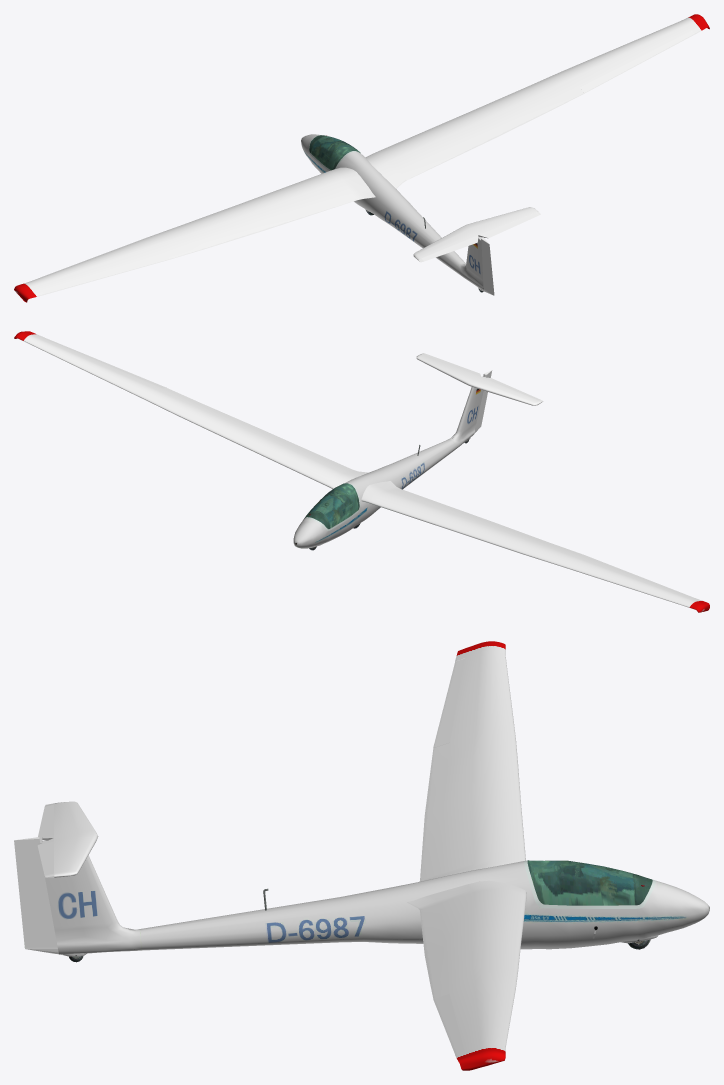
File: ASK_23_stat.gltf
3 views of the same model, one above another, from view 1: azimuth 30°, elevation 25°; view 2: azimuth 150°, elevation 25°; view 3: azimuth 270°, elevation 25° (orthographic). The views are drawn at different scales.
Parts seen in each view (by area): view 1: node9, node8, node16, node17; view 2: node9, node8, node16, node17; view 3: node9, node8, node16, node17, node15.
Boxes of the visible parts, box(x1,y1,x2,y2) form: node9: box(14, 14, 709, 302); node8: box(301, 134, 483, 290); node16: box(413, 207, 540, 295); node17: box(309, 135, 360, 170); node9: box(14, 331, 709, 612); node8: box(293, 374, 486, 548); node16: box(311, 353, 543, 547); node17: box(304, 483, 359, 528); node9: box(407, 641, 526, 1070); node8: box(38, 838, 709, 954); node16: box(14, 801, 658, 956); node17: box(527, 860, 652, 905); node15: box(69, 860, 709, 962).
Bounding box in the file's own units: 14.83 × 2.4 × 7.15.
